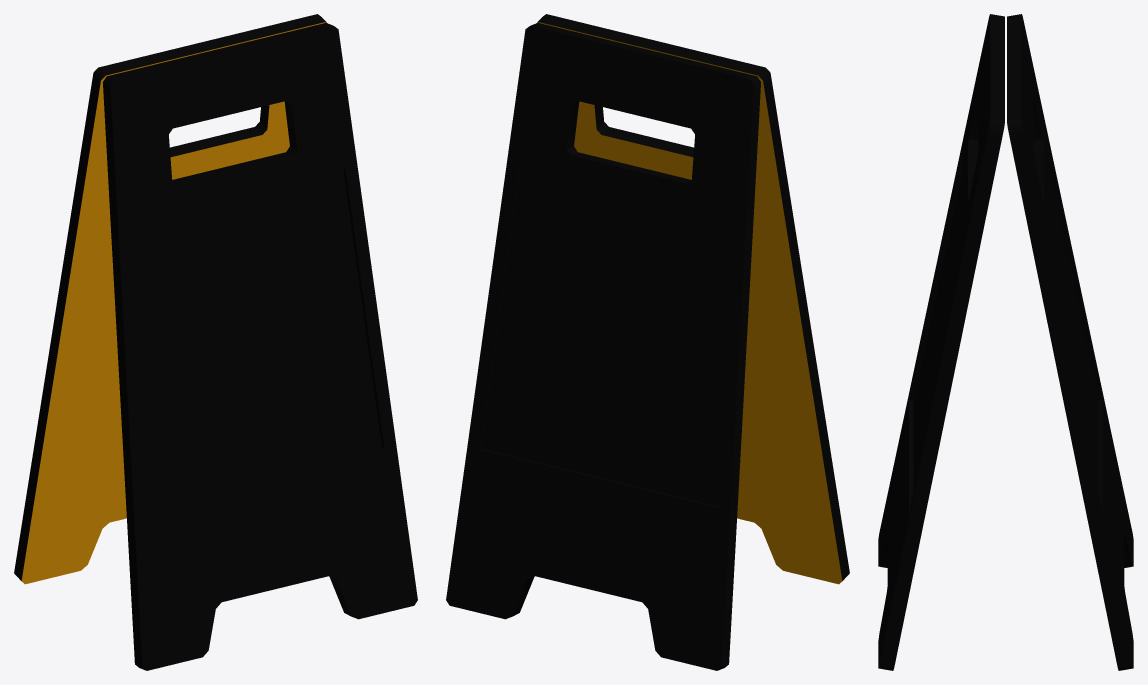
The model's file is uploads_files_1984867_Wet_Floor_Sign.FBX.
3 views of the same model, side by side, from view 1: azimuth 30°, elevation 25°; view 2: azimuth 150°, elevation 25°; view 3: azimuth 270°, elevation 25° (orthographic).
Parts seen in each view (by area): view 1: WETFloor004; view 2: WETFloor004; view 3: WETFloor004.
Part boxes in pixels (x1,y1,x2,y2): WETFloor004: (14,14,417,670); WETFloor004: (446,14,849,670); WETFloor004: (878,14,1133,670).
Size of the model in its own units: 1581 by 3000 by 1286.
